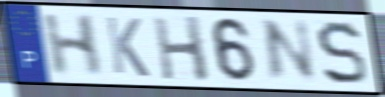6: (209, 15, 259, 85)
H: (150, 14, 213, 84), (41, 12, 105, 78)
K: (103, 14, 152, 80)
N: (260, 18, 319, 86)
S: (314, 19, 370, 88)
